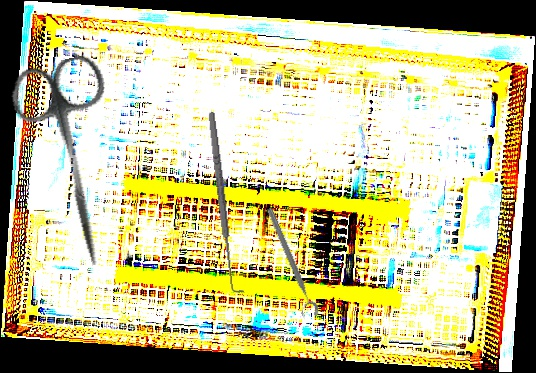Fixation Ring: (257, 205, 322, 322)
Hook Surgical: (205, 109, 245, 296)
Iris Scissors: (4, 51, 145, 276)
